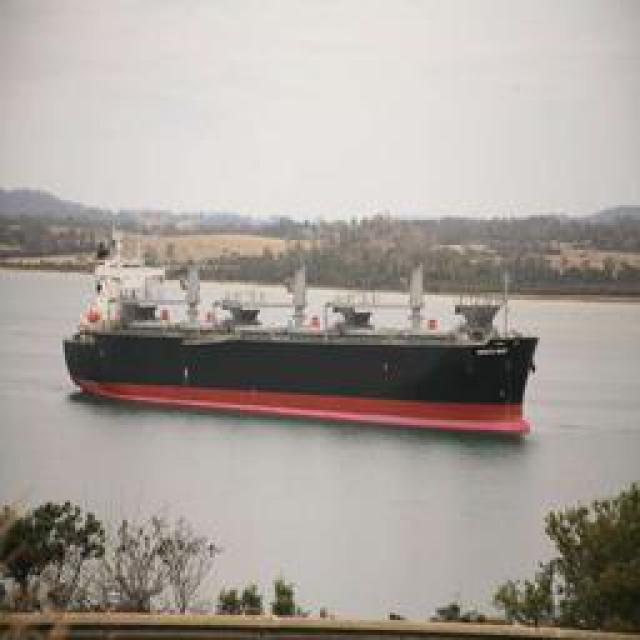Ship: (70, 267, 538, 435)
